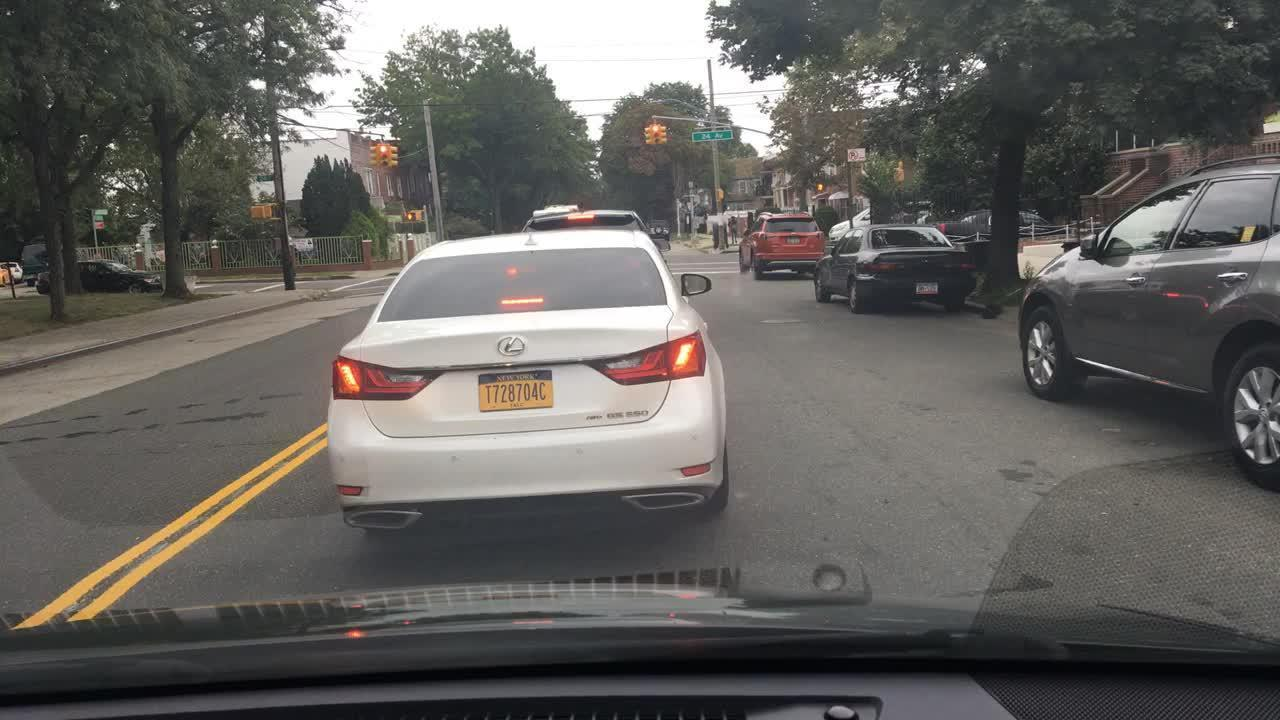lexus: (490, 332, 530, 362)
